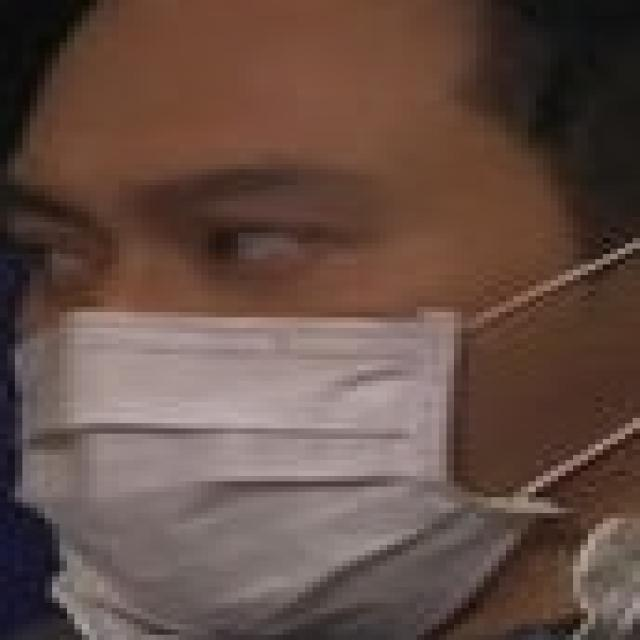mask: (10, 115, 640, 640)
